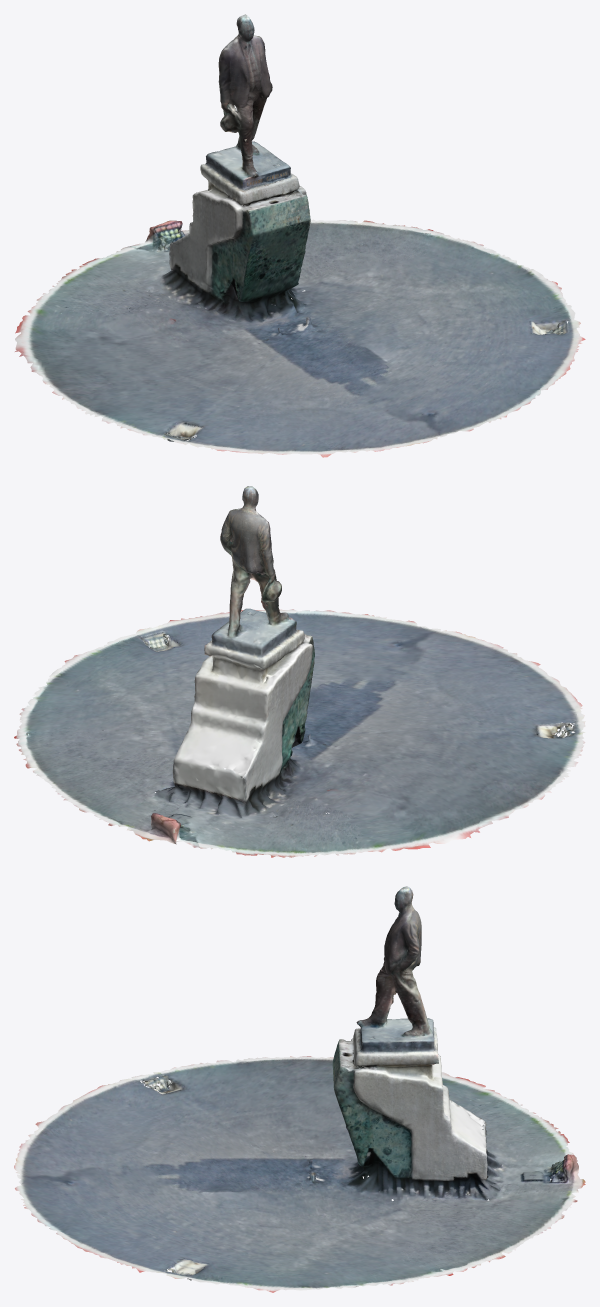
The model's file is lazaro_cardenas_v4.glb.
The picture shows the model from 3 angles, top to bottom: view 1: azimuth 30°, elevation 25°; view 2: azimuth 150°, elevation 25°; view 3: azimuth 270°, elevation 25°; orthographic projection.
Parts seen in each view (by area): view 1: odm_textured_model_geo; view 2: odm_textured_model_geo; view 3: odm_textured_model_geo.
Part boxes in pixels (x1,y1,x2,y2): odm_textured_model_geo: (15, 14, 585, 457); odm_textured_model_geo: (14, 486, 585, 857); odm_textured_model_geo: (14, 886, 585, 1292).
Bounding box in the file's own units: 1.83 × 1.05 × 1.83.
36 materials, 36 textured.
